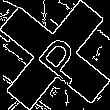P_NW: (24, 25, 86, 85)
